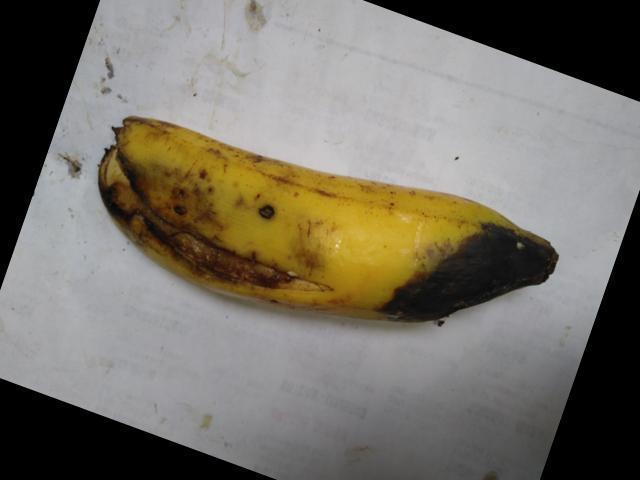rotten: (81, 105, 327, 323), (356, 190, 563, 350)
